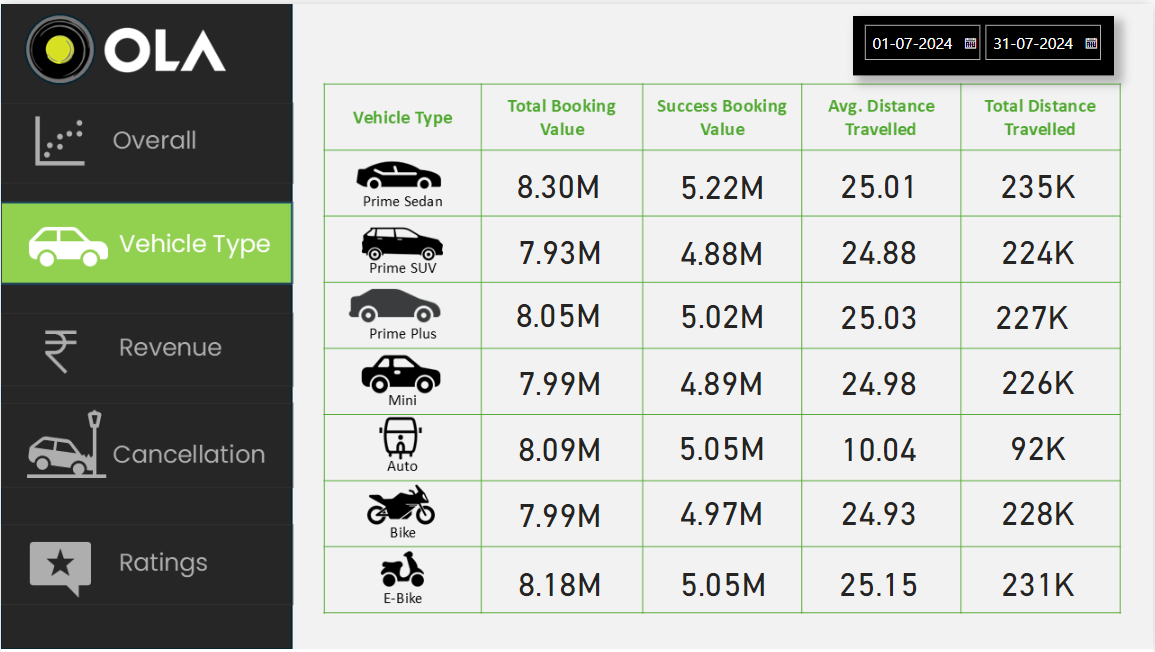

The dashboard page shown, as its layout file describes it:
{"tool":"powerbi","page":{"name":"Vehicle Type","canvas":[1280,720],"ordinal":1},"visuals":[{"type":"actionButton","box":[0,219.5,324.5,90.7],"z":0},{"type":"actionButton","box":[0,343.6,324.5,81.1],"z":1000},{"type":"actionButton","box":[0,443.8,324.5,93.8],"z":2000},{"type":"actionButton","box":[0,579,324.5,89.1],"z":3000},{"type":"actionButton","box":[0,109.8,324.5,89.1],"z":4000},{"type":"card","fields":{"Values":["Sum(Bookings.Booking_Value)"]},"box":[559.1,172.7,120.9,52.7],"z":5000},{"type":"card","fields":{"Values":["Sum(Bookings.Booking_Value)"]},"box":[560,247.3,120.9,52.7],"z":6000},{"type":"card","fields":{"Values":["Sum(Bookings.Booking_Value)"]},"box":[559.1,317.3,120.9,52.7],"z":7000},{"type":"card","fields":{"Values":["Sum(Bookings.Booking_Value)"]},"box":[560.3,391.2,120.6,52.9],"z":8000},{"type":"card","fields":{"Values":["Sum(Bookings.Booking_Value)"]},"box":[560.3,464.7,120.6,52.9],"z":9000},{"type":"card","fields":{"Values":["Sum(Bookings.Booking_Value)"]},"box":[560.3,538.2,120.6,52.9],"z":10000},{"type":"card","fields":{"Values":["Sum(Bookings.Booking_Value)"]},"box":[560,615.5,120.9,52.7],"z":11000},{"type":"card","fields":{"Values":["Sum(Bookings.Booking_Value)"]},"box":[739.7,173.5,120.6,52.9],"z":12000},{"type":"card","fields":{"Values":["Sum(Bookings.Booking_Value)"]},"box":[739.7,247.1,120.6,52.9],"z":13000},{"type":"card","fields":{"Values":["Sum(Bookings.Booking_Value)"]},"box":[739.7,319.1,120.6,51.5],"z":14000},{"type":"card","fields":{"Values":["Sum(Bookings.Booking_Value)"]},"box":[740,390.9,120,53.6],"z":15000},{"type":"card","fields":{"Values":["Sum(Bookings.Booking_Value)"]},"box":[740,464.5,120,50],"z":16000},{"type":"card","fields":{"Values":["Sum(Bookings.Booking_Value)"]},"box":[740,537.3,120,52.7],"z":17000},{"type":"card","fields":{"Values":["Sum(Bookings.Booking_Value)"]},"box":[740.9,615.5,120,52.7],"z":18000},{"type":"card","fields":{"Values":["Avg(Bookings.Ride_Distance)"]},"box":[914.5,172.7,120,52.7],"z":19000},{"type":"card","fields":{"Values":["Avg(Bookings.Ride_Distance)"]},"box":[914.5,247.3,120,52.7],"z":20000},{"type":"card","fields":{"Values":["Avg(Bookings.Ride_Distance)"]},"box":[914.5,319.1,120,51.8],"z":21000},{"type":"card","fields":{"Values":["Avg(Bookings.Ride_Distance)"]},"box":[914.5,390.9,120,53.6],"z":22000},{"type":"card","fields":{"Values":["Avg(Bookings.Ride_Distance)"]},"box":[914.5,467.3,120,50],"z":23000},{"type":"card","fields":{"Values":["Avg(Bookings.Ride_Distance)"]},"box":[914.5,537.3,120,52.7],"z":24000},{"type":"card","fields":{"Values":["Avg(Bookings.Ride_Distance)"]},"box":[914.5,615.5,120,52.7],"z":25000},{"type":"card","fields":{"Values":["Sum(Bookings.Ride_Distance)"]},"box":[1091.8,172.7,120,52.7],"z":26000},{"type":"card","fields":{"Values":["Sum(Bookings.Ride_Distance)"]},"box":[1091.8,247.3,120,52.7],"z":27000},{"type":"card","fields":{"Values":["Sum(Bookings.Ride_Distance)"]},"box":[1085.5,319.1,120,51.8],"z":28000},{"type":"card","fields":{"Values":["Sum(Bookings.Ride_Distance)"]},"box":[1091.8,390,120,53.6],"z":29000},{"type":"card","fields":{"Values":["Sum(Bookings.Ride_Distance)"]},"box":[1091.8,465.5,120,50],"z":30000},{"type":"card","fields":{"Values":["Sum(Bookings.Ride_Distance)"]},"box":[1091.8,537.3,120,52.7],"z":31000},{"type":"card","fields":{"Values":["Sum(Bookings.Ride_Distance)"]},"box":[1091.8,615.5,120,52.7],"z":32000},{"type":"slicer","title":"Date","fields":{"Values":["Bookings.Date"]},"box":[946,14,290,66],"z":33000}]}

Visuals, with their boxes on the page's 1280x720 design canvas (x1, y1, x2, y2). These are canvas units, not pixel positions in the 1155x652 screenshot, which may show the page scaled, cropped or inside an application window:
actionButton: 0 220 324 310
actionButton: 0 344 324 425
actionButton: 0 444 324 538
actionButton: 0 579 324 668
actionButton: 0 110 324 199
card - Sum(Bookings.Booking_Value): 559 173 680 225
card - Sum(Bookings.Booking_Value): 560 247 681 300
card - Sum(Bookings.Booking_Value): 559 317 680 370
card - Sum(Bookings.Booking_Value): 560 391 681 444
card - Sum(Bookings.Booking_Value): 560 465 681 518
card - Sum(Bookings.Booking_Value): 560 538 681 591
card - Sum(Bookings.Booking_Value): 560 616 681 668
card - Sum(Bookings.Booking_Value): 740 174 860 226
card - Sum(Bookings.Booking_Value): 740 247 860 300
card - Sum(Bookings.Booking_Value): 740 319 860 371
card - Sum(Bookings.Booking_Value): 740 391 860 444
card - Sum(Bookings.Booking_Value): 740 464 860 514
card - Sum(Bookings.Booking_Value): 740 537 860 590
card - Sum(Bookings.Booking_Value): 741 616 861 668
card - Avg(Bookings.Ride_Distance): 914 173 1034 225
card - Avg(Bookings.Ride_Distance): 914 247 1034 300
card - Avg(Bookings.Ride_Distance): 914 319 1034 371
card - Avg(Bookings.Ride_Distance): 914 391 1034 444
card - Avg(Bookings.Ride_Distance): 914 467 1034 517
card - Avg(Bookings.Ride_Distance): 914 537 1034 590
card - Avg(Bookings.Ride_Distance): 914 616 1034 668
card - Sum(Bookings.Ride_Distance): 1092 173 1212 225
card - Sum(Bookings.Ride_Distance): 1092 247 1212 300
card - Sum(Bookings.Ride_Distance): 1086 319 1206 371
card - Sum(Bookings.Ride_Distance): 1092 390 1212 444
card - Sum(Bookings.Ride_Distance): 1092 466 1212 516
card - Sum(Bookings.Ride_Distance): 1092 537 1212 590
card - Sum(Bookings.Ride_Distance): 1092 616 1212 668
"Date" slicer: 946 14 1236 80
